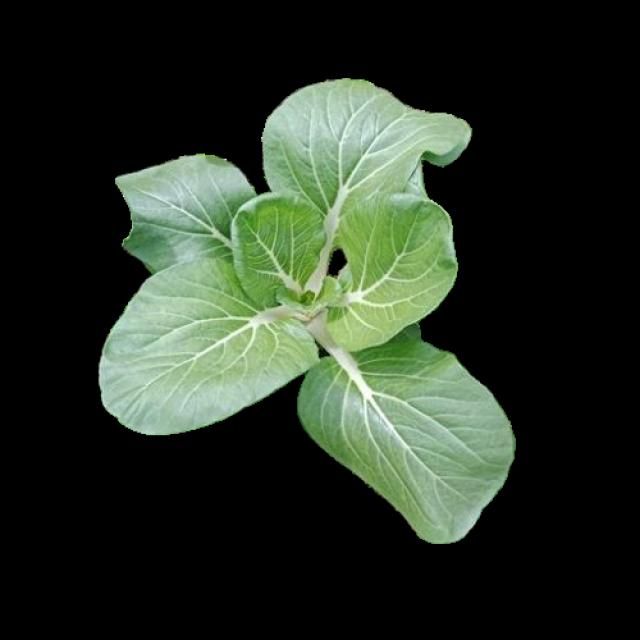healthy: (101, 76, 516, 550)
mature: (104, 78, 518, 553)
